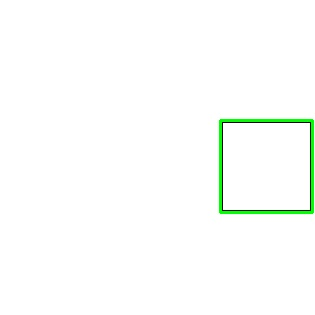line_segment: (219, 119, 314, 214)
